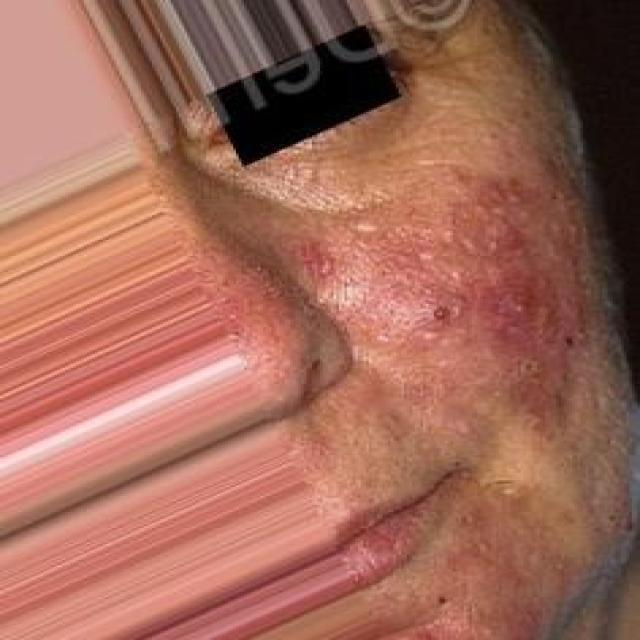Rosacea: (291, 176, 581, 442)
